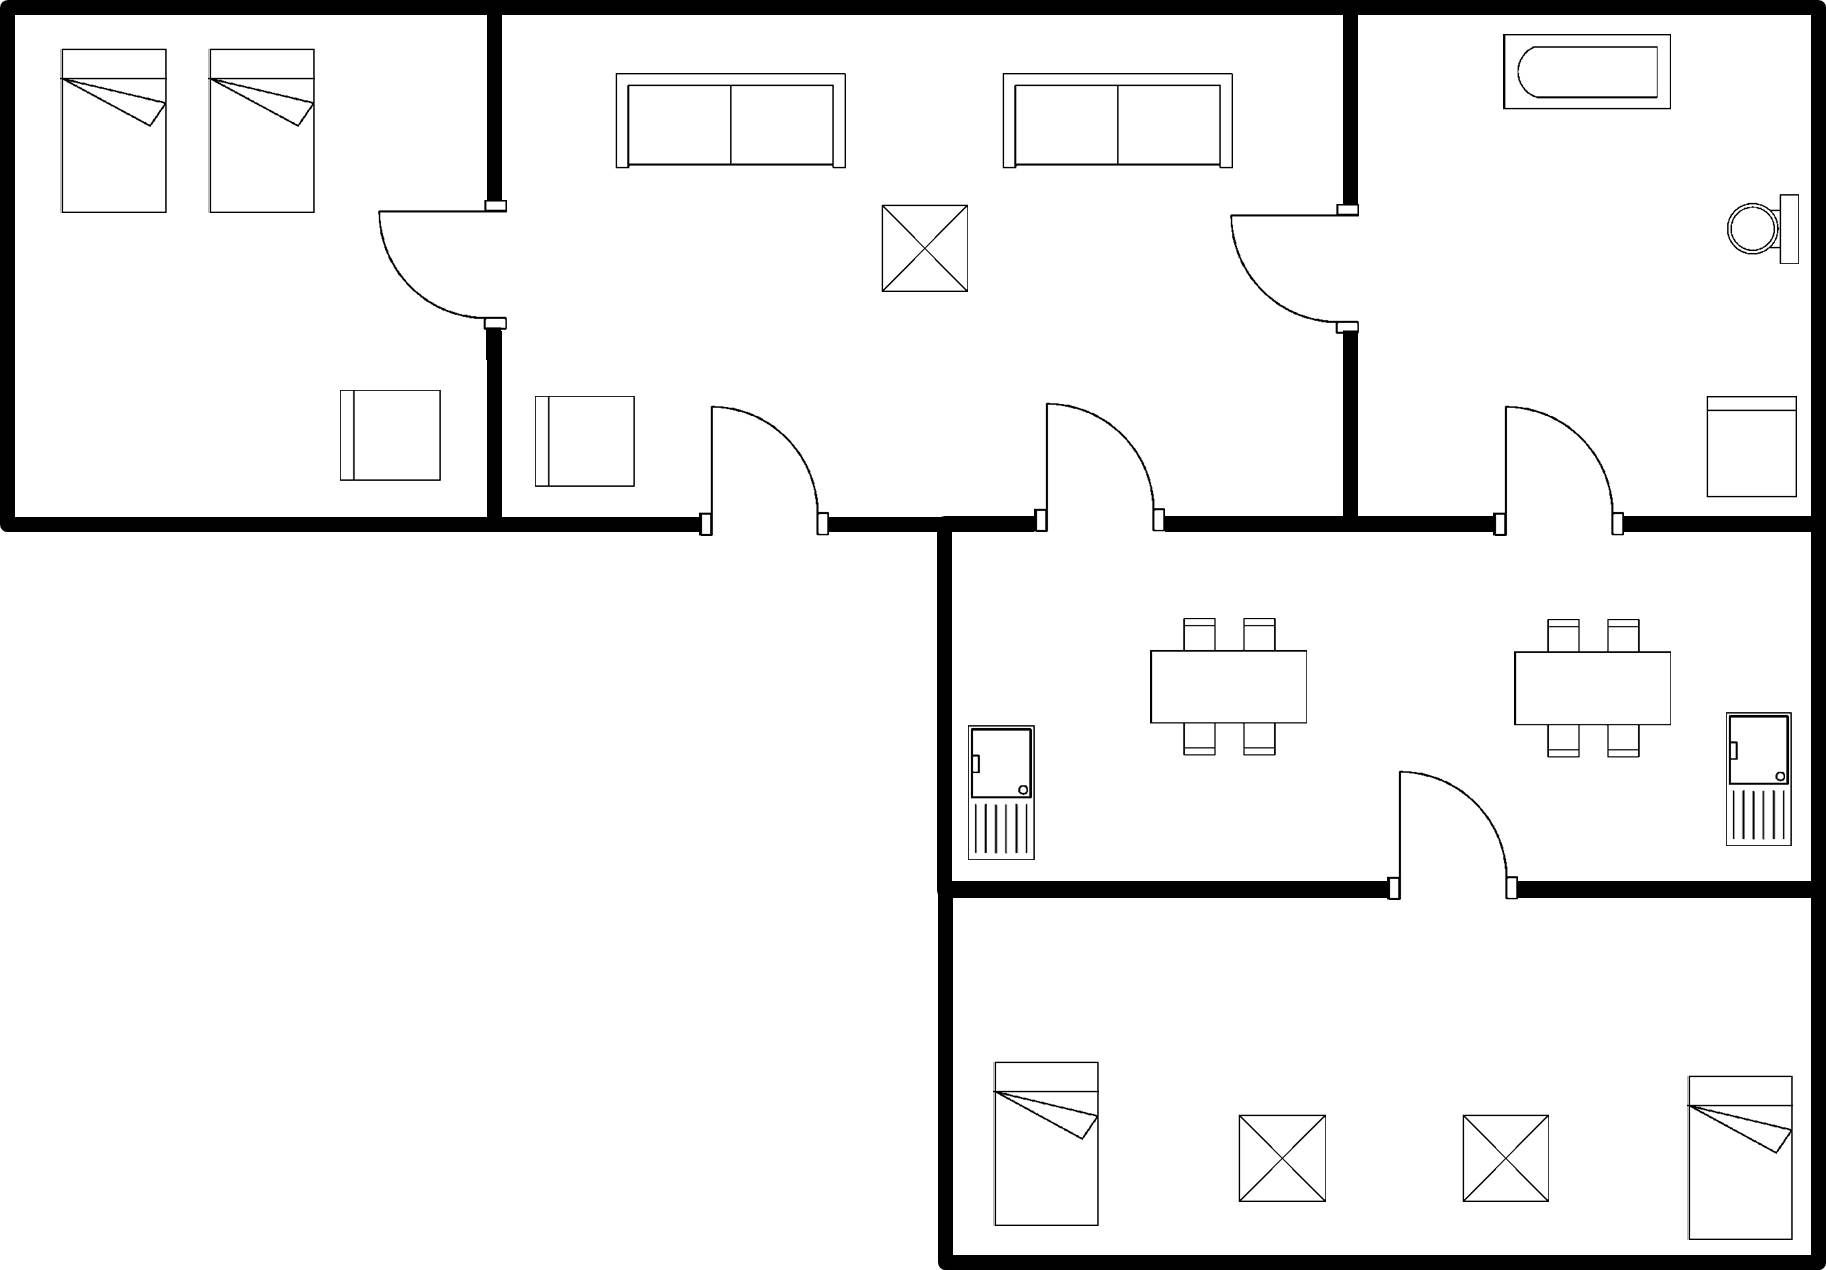bed: (199, 38, 329, 225), (1677, 1064, 1805, 1246), (52, 42, 176, 224), (985, 1054, 1108, 1235)
coffee_table: (1138, 603, 1322, 765), (1503, 608, 1683, 768), (1226, 1103, 1339, 1217), (1450, 1104, 1561, 1216), (870, 195, 982, 304)
large_sink: (1720, 183, 1804, 276)
large_sofa: (603, 64, 857, 181), (994, 63, 1250, 177)
sink: (1712, 704, 1803, 855), (960, 717, 1043, 867)
small_sofa: (326, 378, 450, 490), (524, 387, 644, 498), (1696, 389, 1804, 507)
tub: (1492, 21, 1685, 120)
